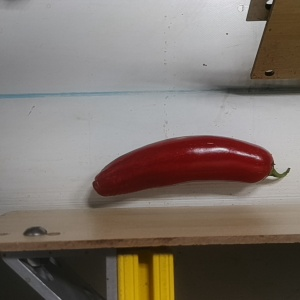Cut Point: (255, 145, 282, 185)
